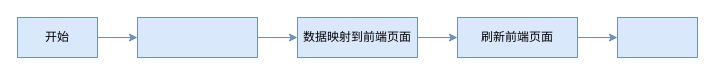
This 715x75 diagram has some shape labels left out. The centre of each missing label's shape, as x and y in pixels:
从数据库中读取数据: the point at 197,37
结束: the point at 657,37
